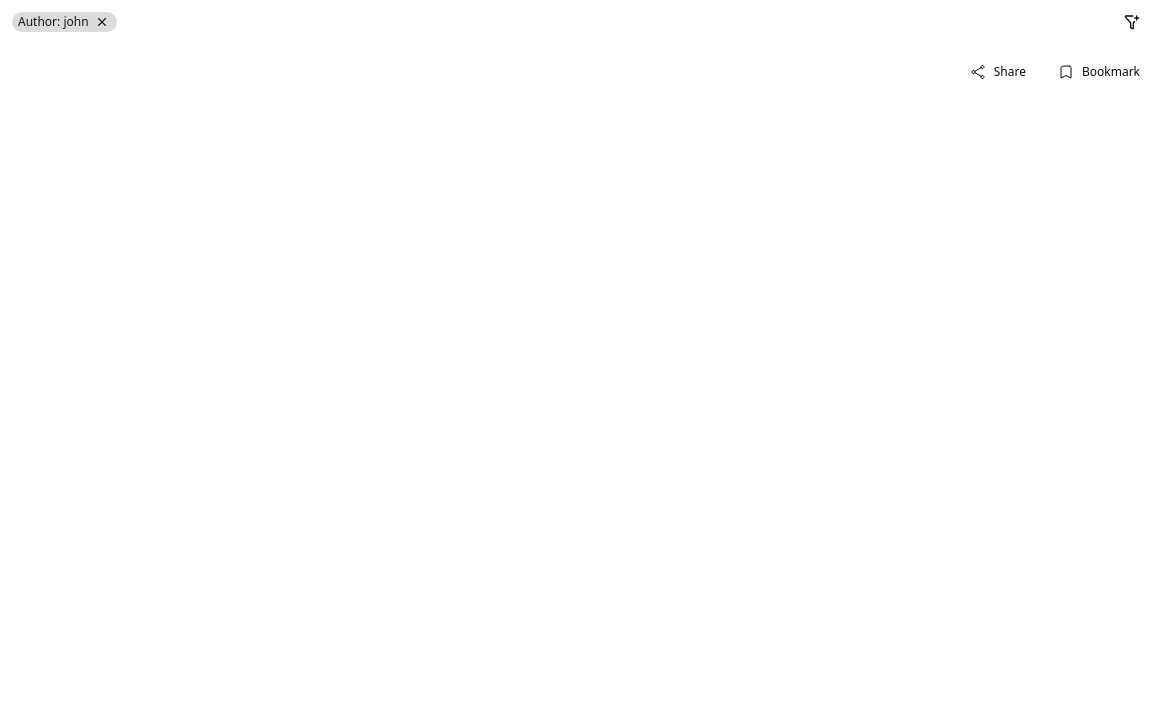
Scenario: QueryDisplay › should enter edit mode and display textarea
Click the 2nd button.
click(1132, 22)  # box [1112,6,1151,38]
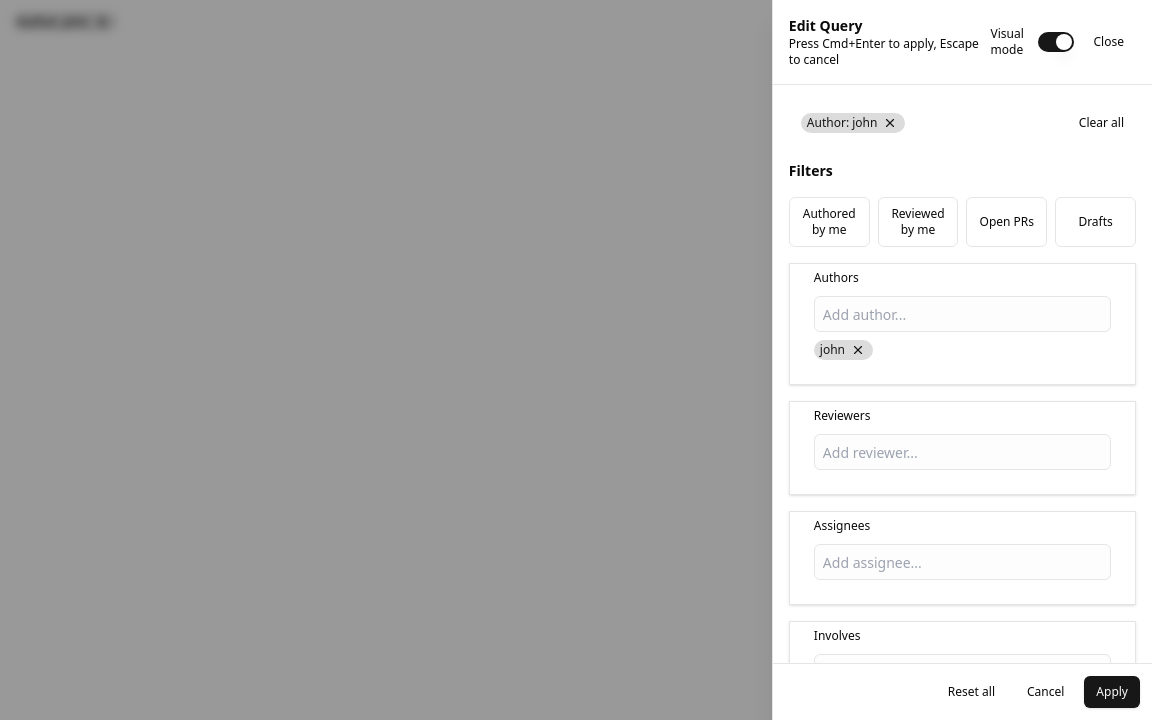
Click the switch.
click(1056, 42)  # box [1038,32,1074,52]
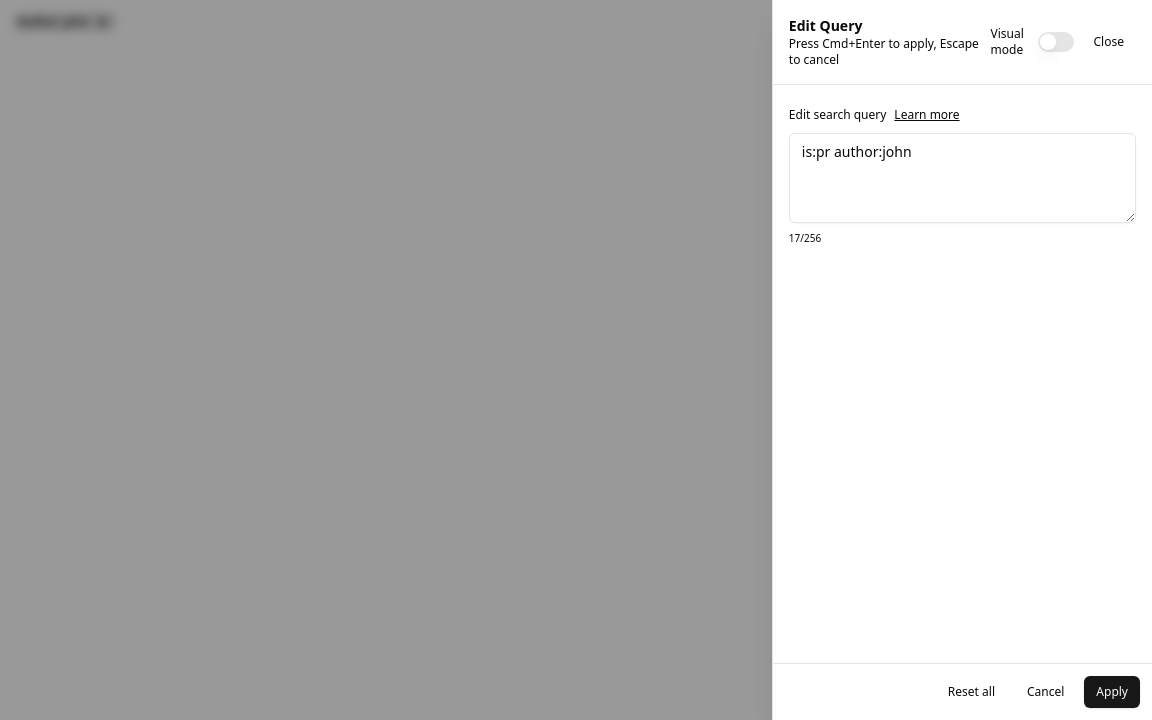
Check: the text "Press Cmd+Enter to apply, Escape to cancel" is shown, box [789,36,990,68]
Check: the text box labelled "Edit search query" is shown, box [789,133,1136,223]
